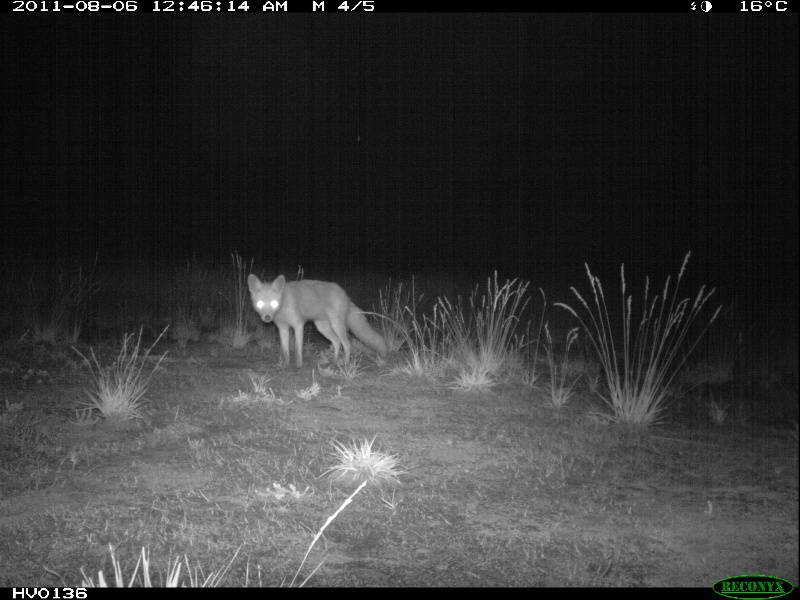fox: (239, 272, 394, 370)
